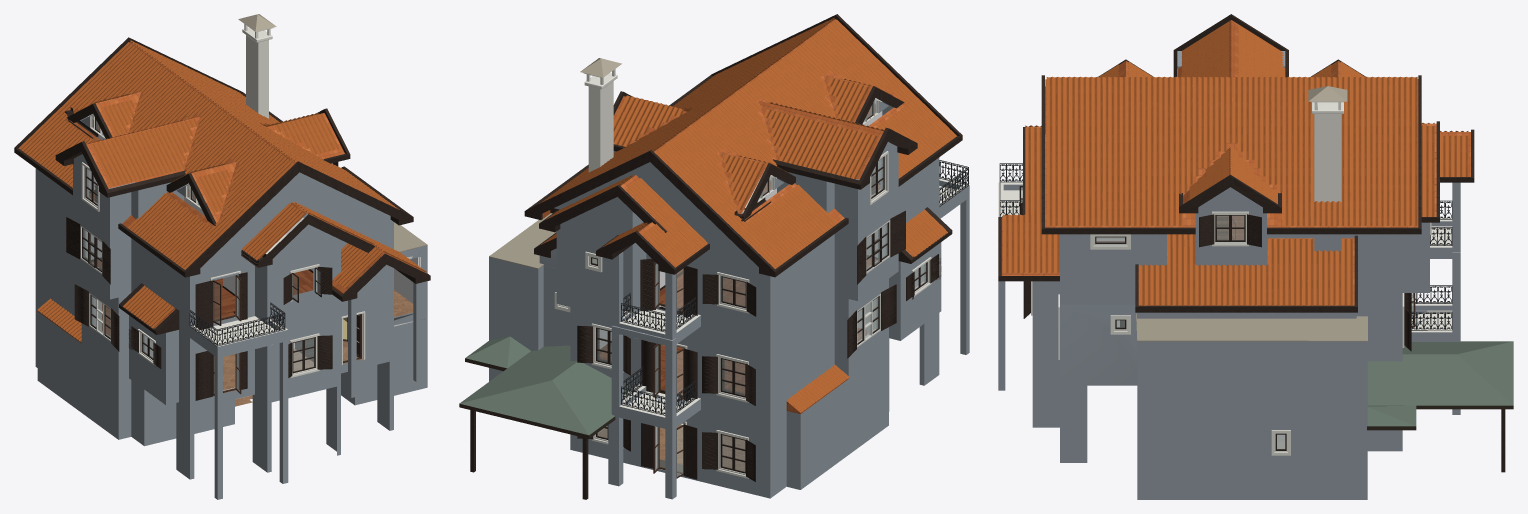
Rendered from bldg-3-opt-DRACO.glb.
3 views of the same model, side by side, from view 1: azimuth 30°, elevation 25°; view 2: azimuth 150°, elevation 25°; view 3: azimuth 270°, elevation 25° (orthographic). The views are drawn at different scales.
Parts seen in each view (by area): view 1: stucco [imported], Clay tile 6 [imported], Material_0, wood_dark.001, roof.003, white_trim (4), glass, ceiling [imported], interior.001, metal, terra_floor, wood_floor.001 (+3 smaller); view 2: stucco [imported], Clay tile 6 [imported], wood_dark.001, Material_0, Mesh_8.001, white_trim (4), roof.003, glass, metal, ceiling [imported], wood_floor.001, gravel [imported] (+4 smaller); view 3: Clay tile 6 [imported], stucco [imported], Material_0, Mesh_8.001, gravel [imported], roof.003, white_trim (4), ceiling [imported], wood_dark.001, metal, glass.
Part boxes in pixels (x1,y1,x2,y2): stucco [imported]: (35, 116, 427, 499); Clay tile 6 [imported]: (18, 40, 426, 341); Material_0: (14, 37, 430, 341); wood_dark.001: (65, 107, 347, 400); roof.003: (37, 42, 427, 343); white_trim (4): (80, 24, 420, 377); glass: (83, 115, 320, 371); ceiling [imported]: (92, 35, 406, 325); interior.001: (85, 114, 418, 399); metal: (189, 302, 285, 346); terra_floor: (214, 290, 413, 406); wood_floor.001: (89, 119, 313, 336); stucco [imported]: (489, 100, 969, 499); Clay tile 6 [imported]: (539, 17, 956, 411); wood_dark.001: (565, 103, 941, 481); Material_0: (470, 14, 962, 499); Mesh_8.001: (459, 336, 631, 438); white_trim (4): (554, 69, 969, 478); roof.003: (542, 19, 917, 413); glass: (592, 100, 926, 471); metal: (621, 160, 968, 415); ceiling [imported]: (588, 81, 879, 307); wood_floor.001: (600, 104, 880, 394); gravel [imported]: (489, 58, 621, 268); Clay tile 6 [imported]: (1003, 22, 1468, 305); stucco [imported]: (998, 51, 1460, 499); Material_0: (998, 14, 1505, 472); Mesh_8.001: (1367, 341, 1513, 430); gravel [imported]: (1136, 86, 1367, 341); roof.003: (1001, 20, 1470, 305); white_trim (4): (998, 101, 1452, 455); ceiling [imported]: (1314, 114, 1341, 202); wood_dark.001: (1019, 186, 1411, 450); metal: (999, 163, 1452, 330); glass: (1021, 187, 1285, 448).
Size of the model in its own units: 14.28 by 14.92 by 18.8.
32 materials, 17 textured.
